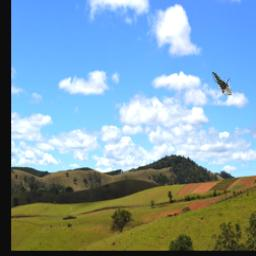Cuckoo: (212, 72, 233, 95)
